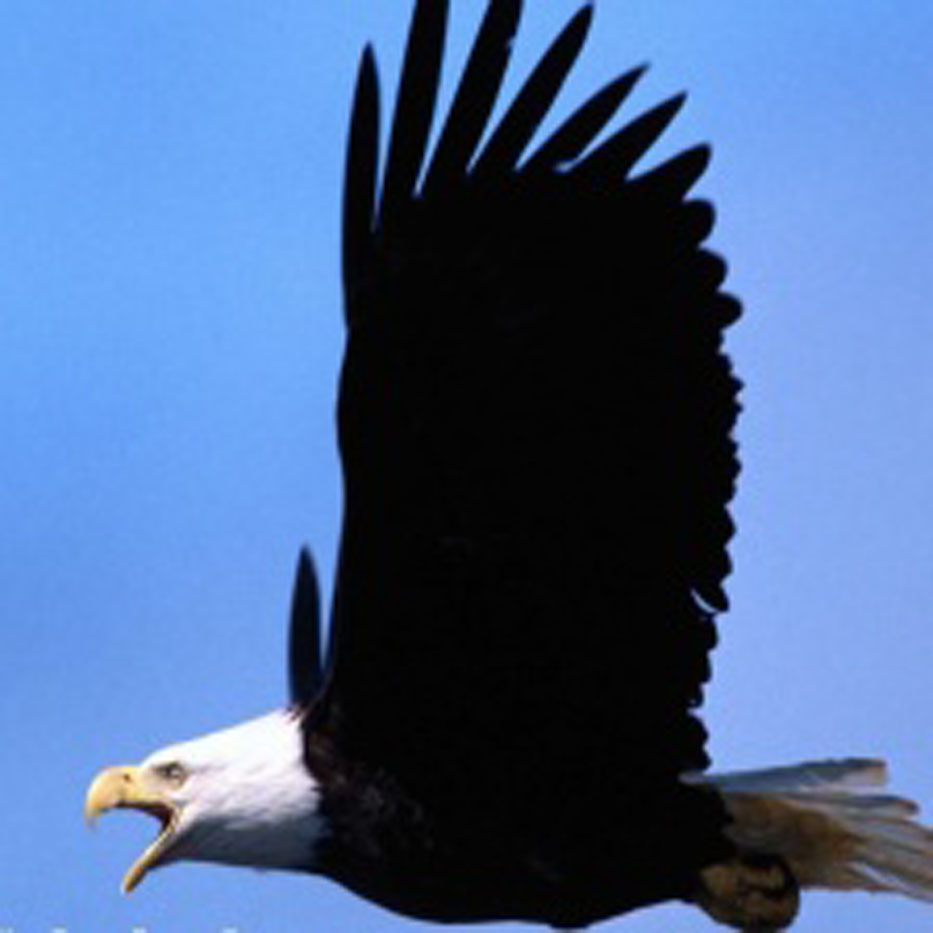Pengoyak Daging: (63, 754, 184, 904)
